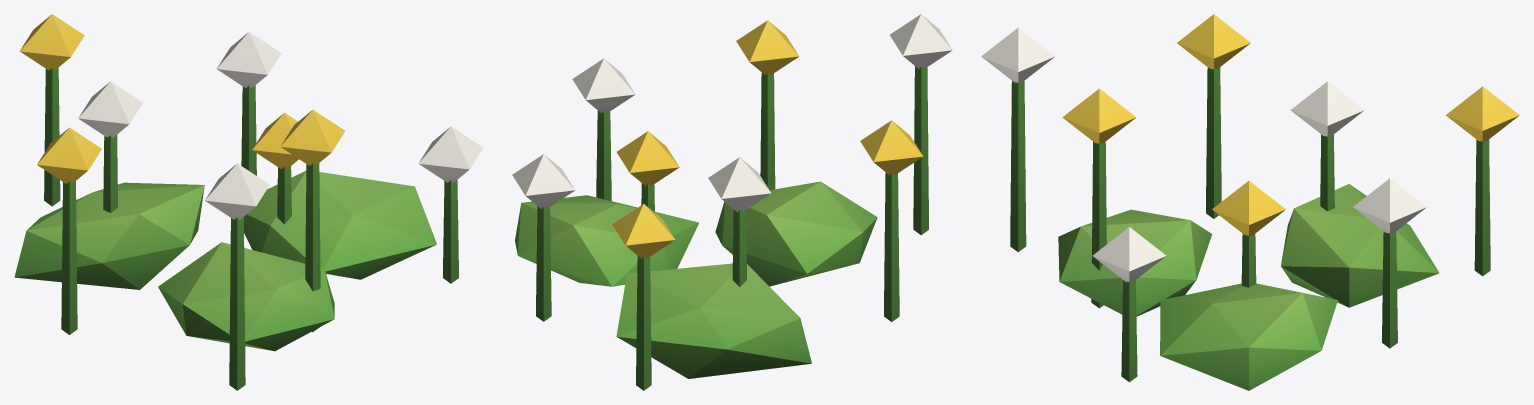
The model's file is flowers_yellow.glb.
3 views of the same model, side by side, from view 1: azimuth 30°, elevation 25°; view 2: azimuth 150°, elevation 25°; view 3: azimuth 270°, elevation 25° (orthographic). The views are drawn at different scales.
Parts seen in each view (by area): view 1: flowers_yellow; view 2: flowers_yellow; view 3: flowers_yellow.
Part boxes in pixels (x1,y1,x2,y2): flowers_yellow: [14, 14, 483, 390]; flowers_yellow: [512, 14, 952, 390]; flowers_yellow: [981, 14, 1519, 390].
Size of the model in its own units: 4.46 by 2.54 by 5.22.
1 material, 1 textured.
